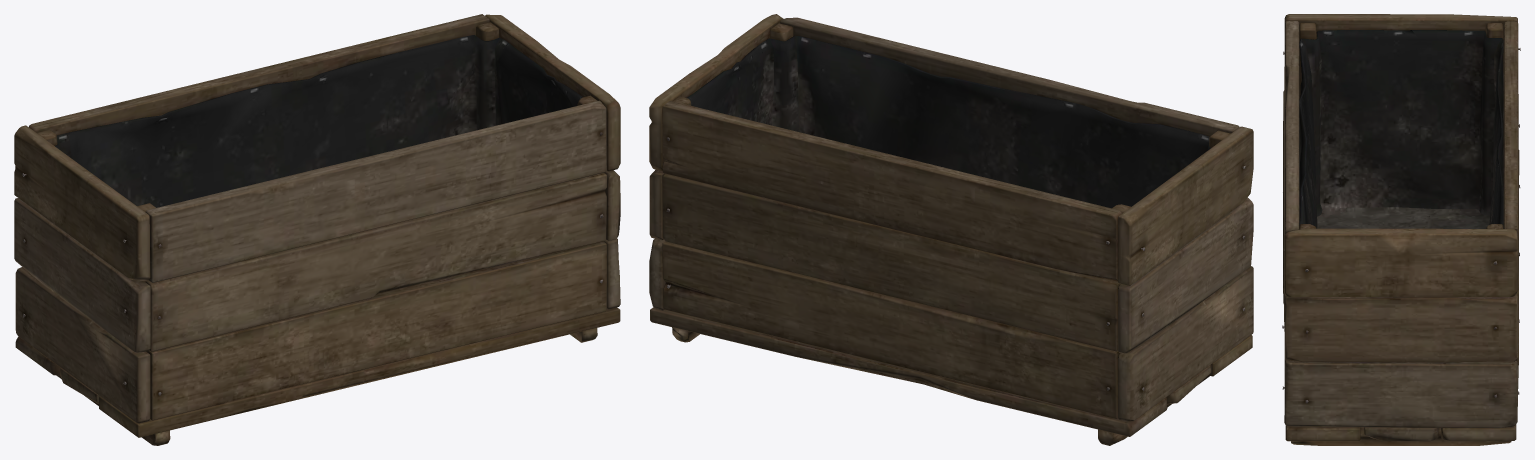
The model's file is planter_box_01.glb.
The picture shows the model from 3 angles, left to right: view 1: azimuth 30°, elevation 25°; view 2: azimuth 150°, elevation 25°; view 3: azimuth 270°, elevation 25°; orthographic projection. The views are drawn at different scales.
Parts seen in each view (by area): view 1: planter_box_01; view 2: planter_box_01; view 3: planter_box_01.
Part boxes in pixels (bbox=[...]): planter_box_01: bbox=[14, 14, 620, 445]; planter_box_01: bbox=[649, 14, 1253, 445]; planter_box_01: bbox=[1282, 14, 1520, 445].
Size of the model in its own units: 0.9126 by 0.4249 by 0.4137.
1 material, 1 textured.
